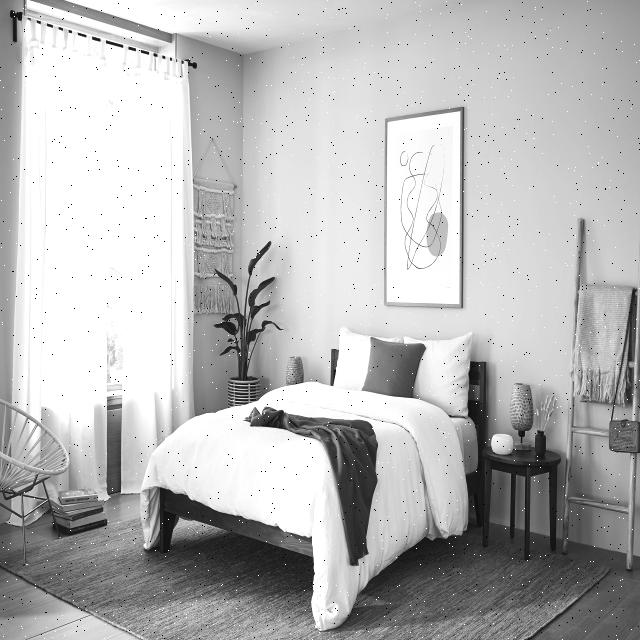bed: (136, 326, 494, 586)
